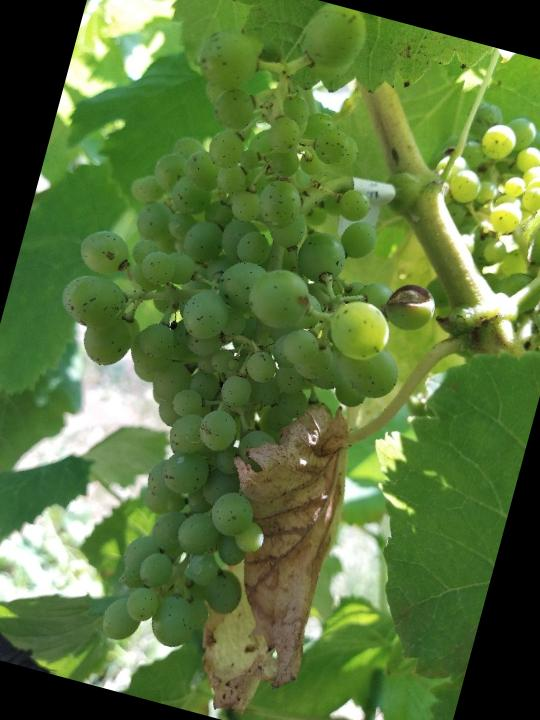grape: (0, 0, 508, 703)
